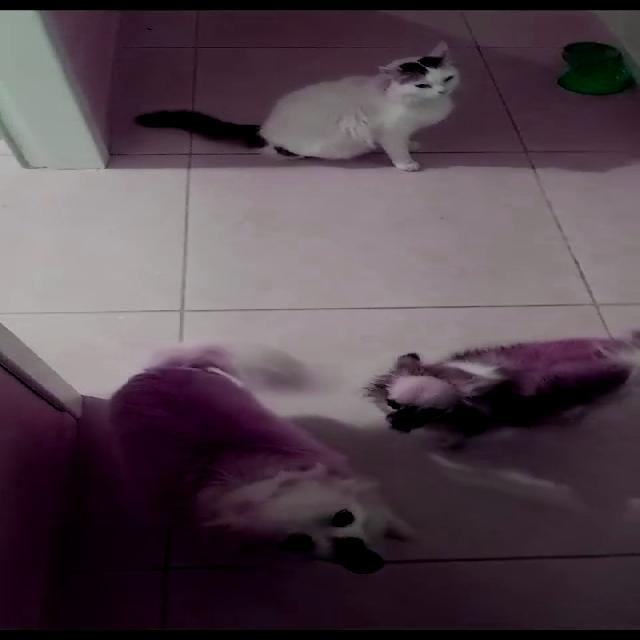Pedrita: (394, 292, 638, 436)
Theo: (75, 332, 451, 600)
